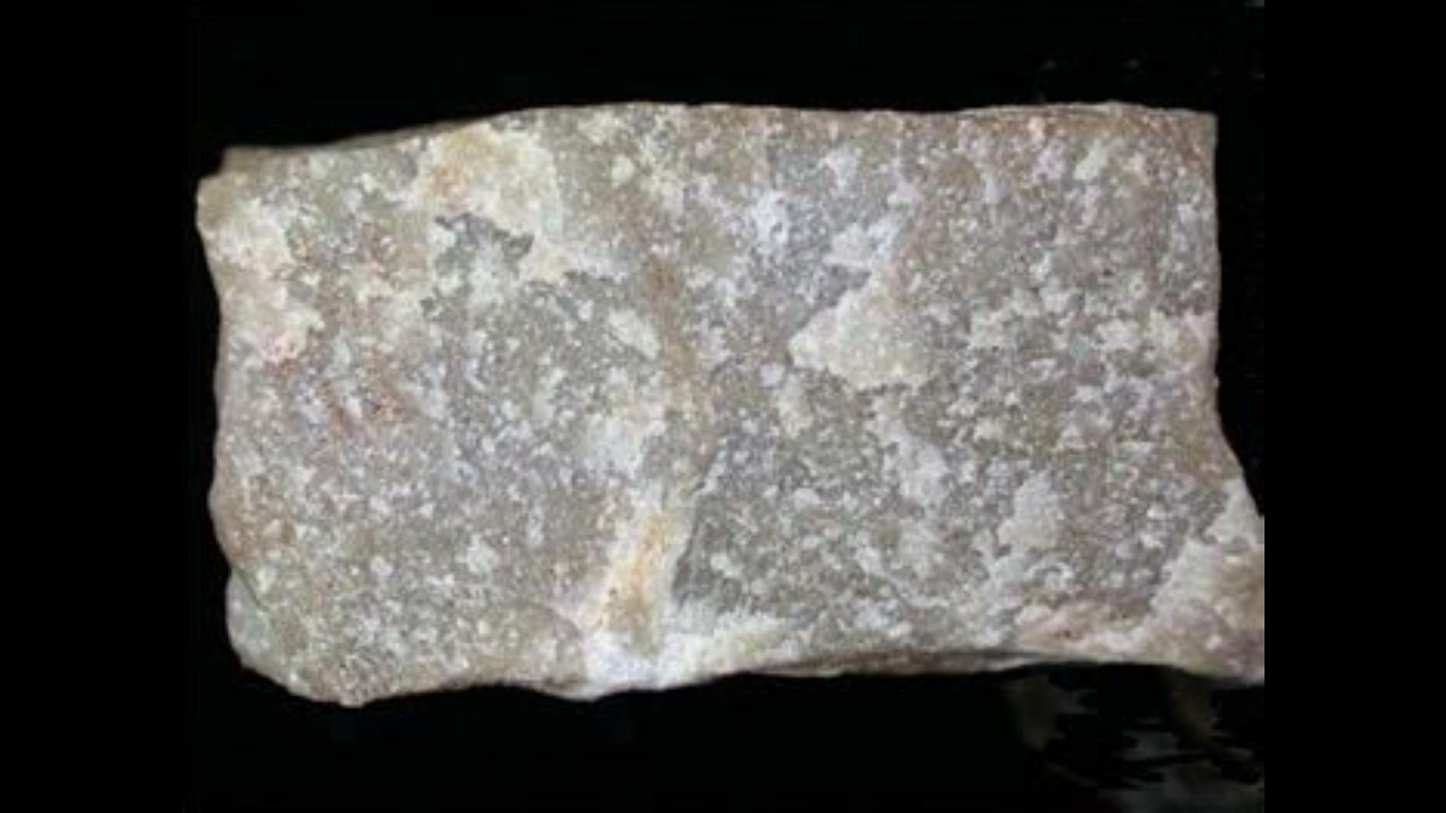rock: (200, 108, 1261, 692)
